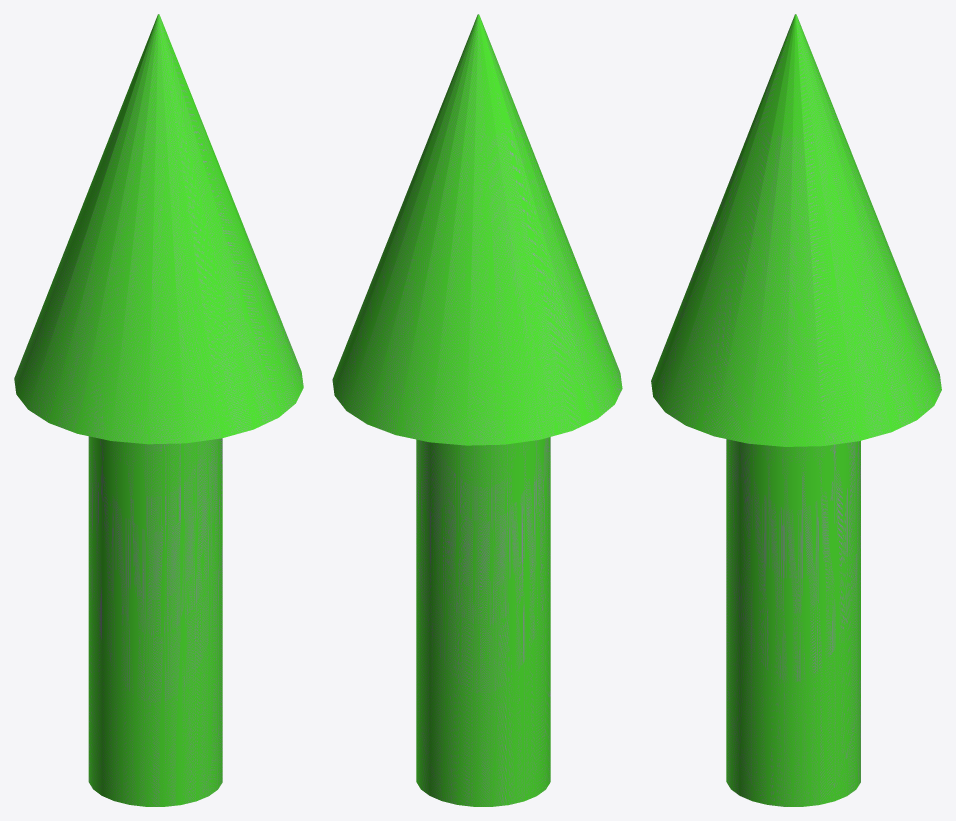
Rendered from arrow.fbx.
The picture shows the model from 3 angles, left to right: view 1: azimuth 30°, elevation 25°; view 2: azimuth 150°, elevation 25°; view 3: azimuth 270°, elevation 25°; orthographic projection.
Visible parts, largest first — view 1: vectorArrow1; view 2: vectorArrow1; view 3: vectorArrow1.
Part boxes in pixels (x1,y1,x2,y2): vectorArrow1: (14, 14, 303, 806); vectorArrow1: (332, 14, 622, 806); vectorArrow1: (651, 14, 941, 806).
Bounding box in the file's own units: 1.07 × 3.12 × 1.07.
